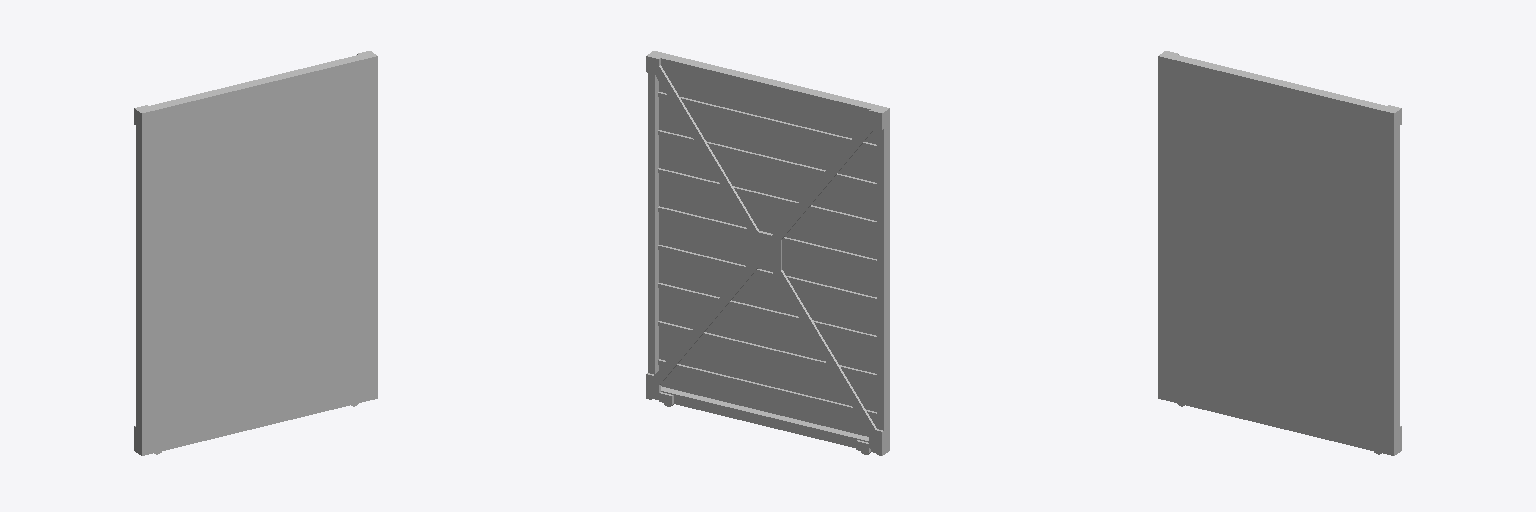
File: f_door_r2.obj
3 views of the same model, side by side, from view 1: azimuth 30°, elevation 25°; view 2: azimuth 150°, elevation 25°; view 3: azimuth 330°, elevation 25° (orthographic).
Bounding box in the file's own units: 1067 × 1502 × 58.95.